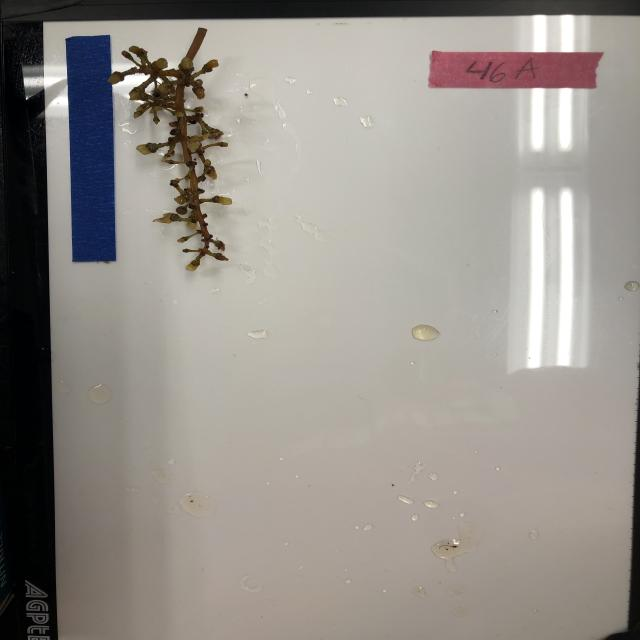index: (428, 50, 604, 91)
measure_label: (66, 34, 119, 264)
rachis_cluster: (105, 25, 269, 272)
